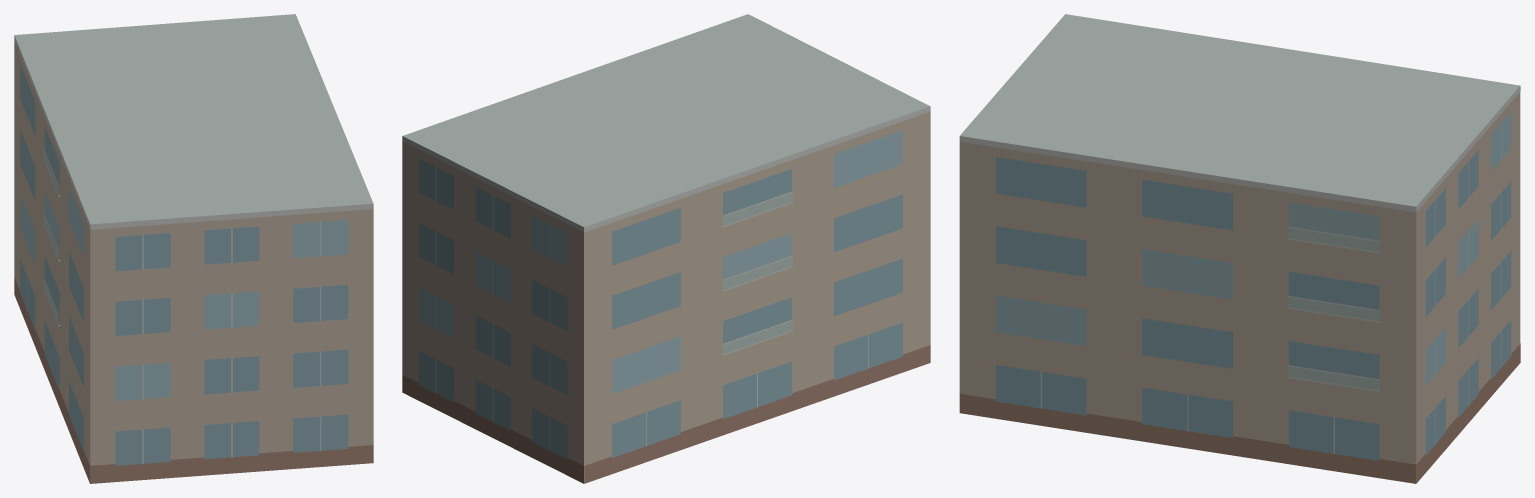
Rendered from survey-upis-32718963.glb.
3 renders of one model, left to right at view 1: azimuth 30°, elevation 25°; view 2: azimuth 150°, elevation 25°; view 3: azimuth 270°, elevation 25°, orthographic. The views are drawn at different scales.
Visible parts, largest first — view 1: survey-upis-32718963.tmp; view 2: survey-upis-32718963.tmp; view 3: survey-upis-32718963.tmp.
Boxes of the visible parts, box(x1,y1,x2,y2) form: survey-upis-32718963.tmp: box(14, 14, 373, 483); survey-upis-32718963.tmp: box(402, 14, 930, 483); survey-upis-32718963.tmp: box(959, 14, 1520, 483).
Bounding box in the file's own units: 17.61 × 11.8 × 21.66.
